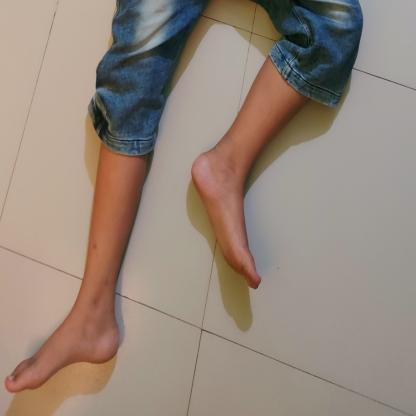leg: (4, 156, 149, 396), (187, 51, 309, 296)
